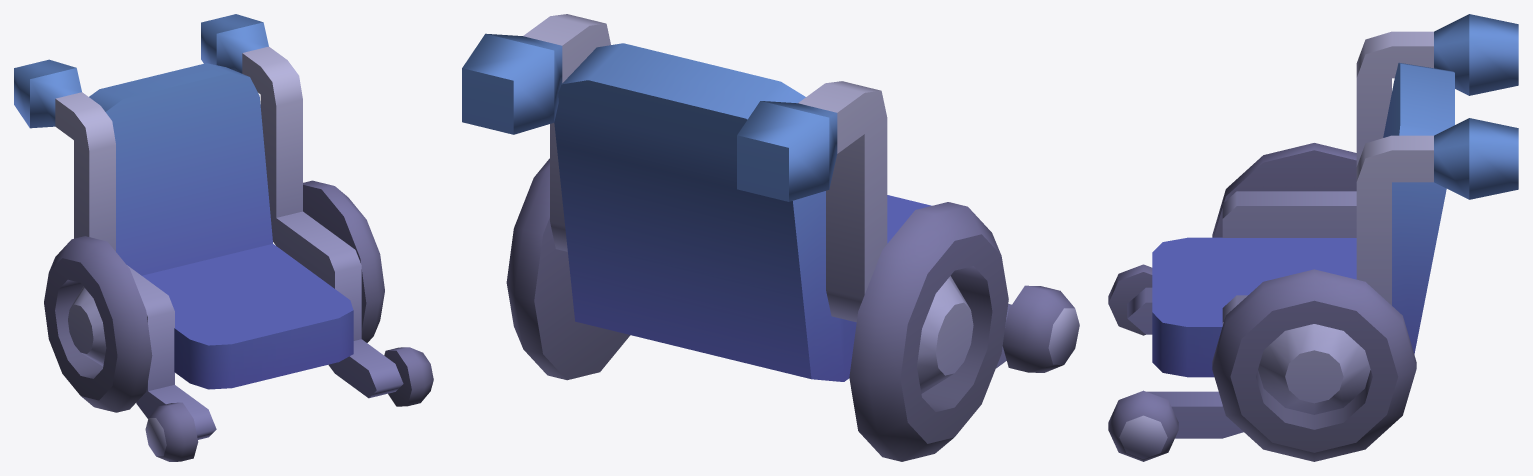
The model's file is wheelchair.obj.
3 views of the same model, side by side, from view 1: azimuth 30°, elevation 25°; view 2: azimuth 150°, elevation 25°; view 3: azimuth 270°, elevation 25° (orthographic). The views are drawn at different scales.
Visible parts, largest first — view 1: wheelchair; view 2: wheelchair; view 3: wheelchair.
Part boxes in pixels (x1,y1,x2,y2): wheelchair: [14, 14, 433, 461]; wheelchair: [462, 14, 1079, 461]; wheelchair: [1108, 14, 1518, 461].
Bounding box in the file's own units: 0.5 × 0.495 × 0.5824.
1 material, 1 textured.
